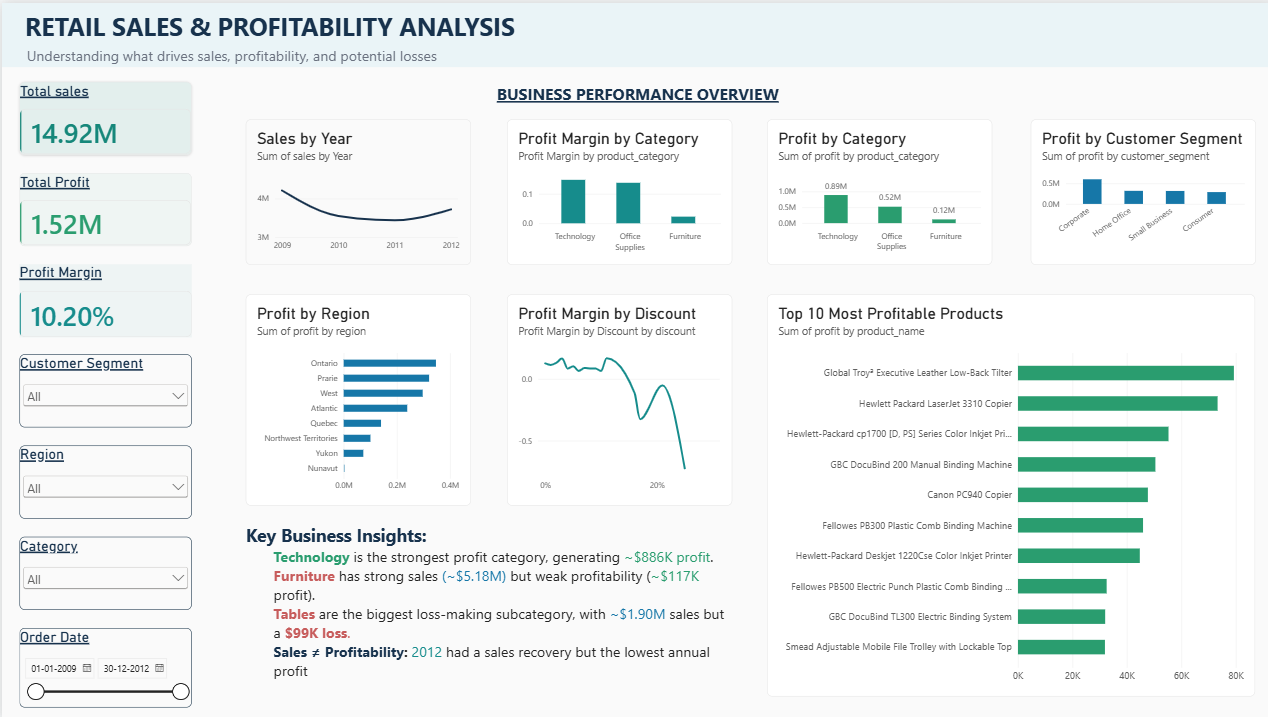

The page's visual inventory and layout, read from the dashboard file:
{"tool":"powerbi","page":{"name":"Page 1","canvas":[1920,1080],"ordinal":0},"visuals":[{"type":"cardVisual","title":"Total sales","fields":{"Data":["Sum(public superstore.sales)"]},"box":[380.8,119.4,267.6,117.3],"z":0},{"type":"cardVisual","title":"Total Profit","fields":{"Data":["Sum(public superstore.profit)"]},"box":[852.1,121.4,263.5,117.3],"z":1000},{"type":"cardVisual","title":"Profit Margin","fields":{"Data":["public superstore.Profit Margin"]},"box":[1294.7,119.4,255.2,117.3],"z":2000},{"type":"lineChart","title":"Sales by Year","fields":{"Category":["public superstore.order_date.Variation.Date Hierarchy.Year"],"Y":["Sum(public superstore.sales)"]},"box":[57.6,446.7,424,251.1],"z":3000},{"type":"clusteredColumnChart","title":"Profit by Category","fields":{"Category":["public superstore.product_category"],"Y":["Sum(public superstore.profit)"]},"box":[983.9,448.7,438.4,249.1],"z":4000},{"type":"clusteredBarChart","title":"Profit by Region","fields":{"Category":["public superstore.region"],"Y":["Sum(public superstore.profit)"]},"box":[543.4,448.7,382.8,251.1],"z":5000},{"type":"lineChart","title":"Profit Margin by Discount","fields":{"Category":["public superstore.discount"],"Y":["public superstore.Profit Margin by Discount"]},"box":[537.2,759.5,395.2,257.3],"z":6000},{"type":"clusteredColumnChart","title":"Profit by Customer Segment","fields":{"Category":["public superstore.customer_segment"],"Y":["Sum(public superstore.profit)"]},"box":[1484.1,444.6,393.1,251.1],"z":7000},{"type":"clusteredColumnChart","title":"Top 10 Most Profitable Products","fields":{"Category":["public superstore.product_name"],"Y":["Sum(public superstore.profit)"]},"box":[983.9,759.5,893.3,257.3],"z":8000},{"type":"slicer","title":"Region","fields":{"Values":["public superstore.region"]},"box":[113.2,282,368.4,90.6],"z":9000},{"type":"slicer","title":"Customer Segment","fields":{"Values":["public superstore.customer_segment"]},"box":[553.7,282,378.7,90.6],"z":10000},{"type":"slicer","title":"Order Date","fields":{"Values":["public superstore.order_date"]},"box":[1025,282,356.1,111.1],"z":11000},{"type":"textbox","box":[0,26.8,1920.4,65.9],"z":12000},{"type":"clusteredColumnChart","title":"Profit Margin by Category","fields":{"Category":["public superstore.product_category"],"Y":["public superstore.Profit Margin"]},"box":[57.6,759.5,424,257.3],"z":13000},{"type":"slicer","title":"Category","fields":{"Values":["public superstore.product_category"]},"box":[1457.3,282,341.7,90.6],"z":14000}]}

Visuals, with their boxes in screenshot pixels (x1, y1, x2, y2), scaled from the page's 1920x1080 canvas onto the 1268x717 screenshot:
"Total sales" cardVisual: crop(251, 79, 428, 157)
"Total Profit" cardVisual: crop(563, 81, 737, 158)
"Profit Margin" cardVisual: crop(855, 79, 1024, 157)
"Sales by Year" lineChart: crop(38, 297, 318, 463)
"Profit by Category" clusteredColumnChart: crop(650, 298, 939, 463)
"Profit by Region" clusteredBarChart: crop(359, 298, 612, 465)
"Profit Margin by Discount" lineChart: crop(355, 504, 616, 675)
"Profit by Customer Segment" clusteredColumnChart: crop(980, 295, 1240, 462)
"Top 10 Most Profitable Products" clusteredColumnChart: crop(650, 504, 1240, 675)
"Region" slicer: crop(75, 187, 318, 247)
"Customer Segment" slicer: crop(366, 187, 616, 247)
"Order Date" slicer: crop(677, 187, 912, 261)
textbox: crop(0, 18, 1267, 62)
"Profit Margin by Category" clusteredColumnChart: crop(38, 504, 318, 675)
"Category" slicer: crop(962, 187, 1188, 247)
